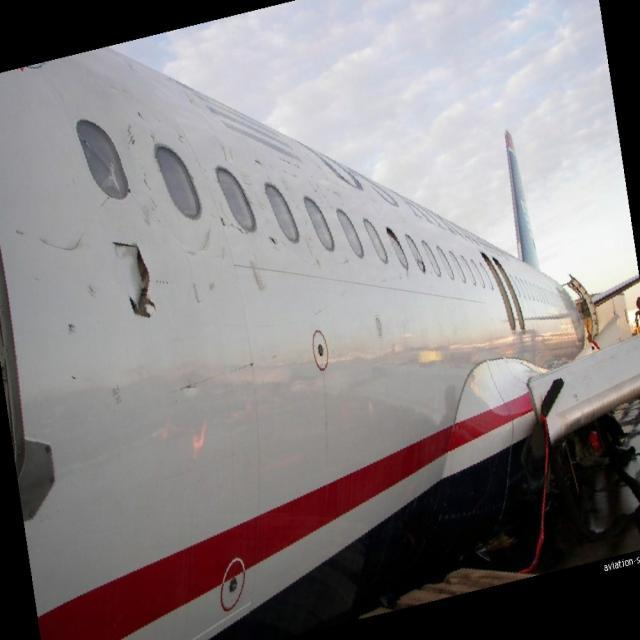crack: (109, 241, 162, 322)
